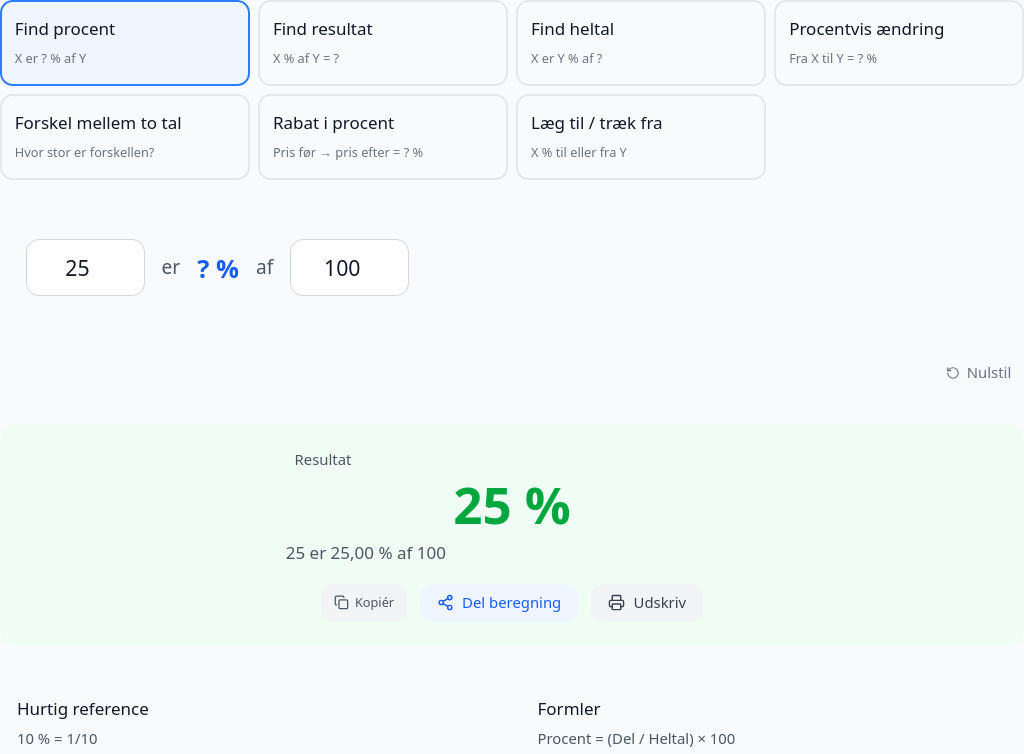
Test: ProcentBeregner › et byttet talpar giver samme forskel, men den anden ændring
This screenshot has width=1024, height=754.
Click the radio button labelled "Forskel mellem to tal Hvor stor er forskellen?". click: x=125, y=137
box: [0,94,250,180]
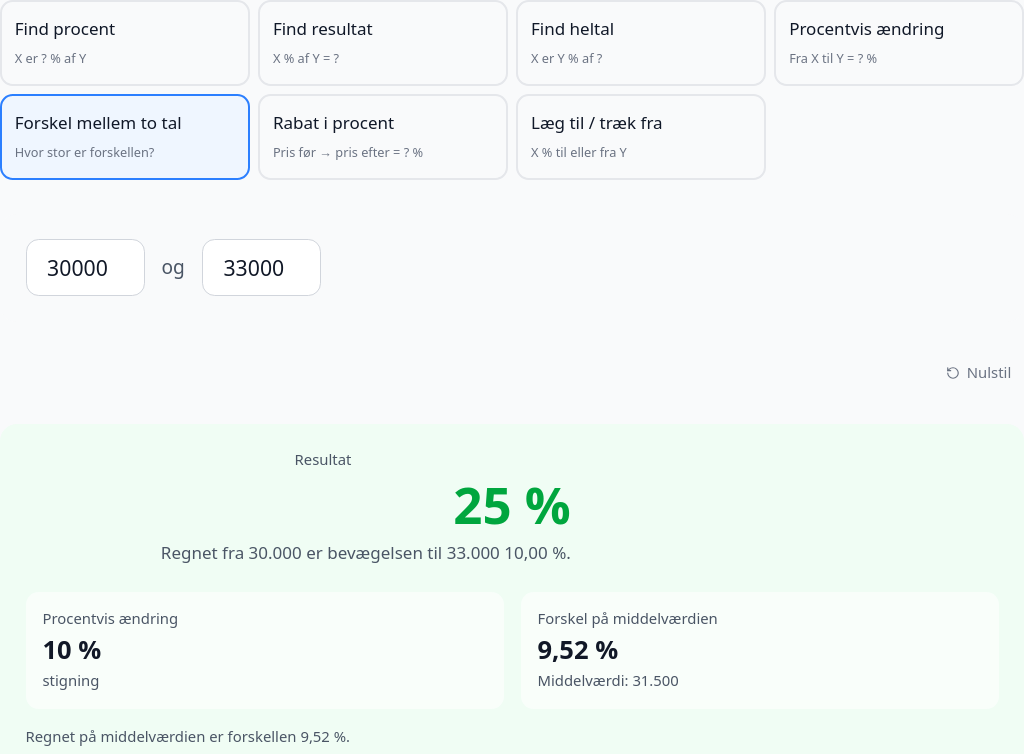
Replace the text in the number field named "Første tal" with "33000". click: x=85, y=268
box: [26,239,144,296]
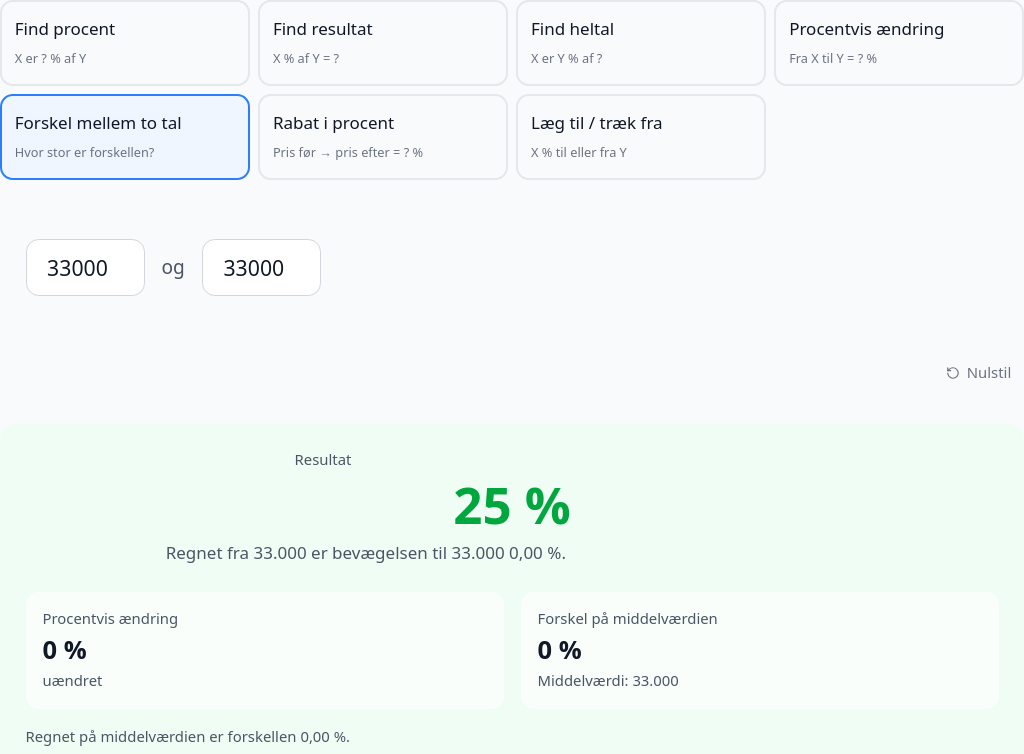
Replace the text in the number field named "Andet tal" with "30000". click: x=261, y=268
box: [202,239,321,296]
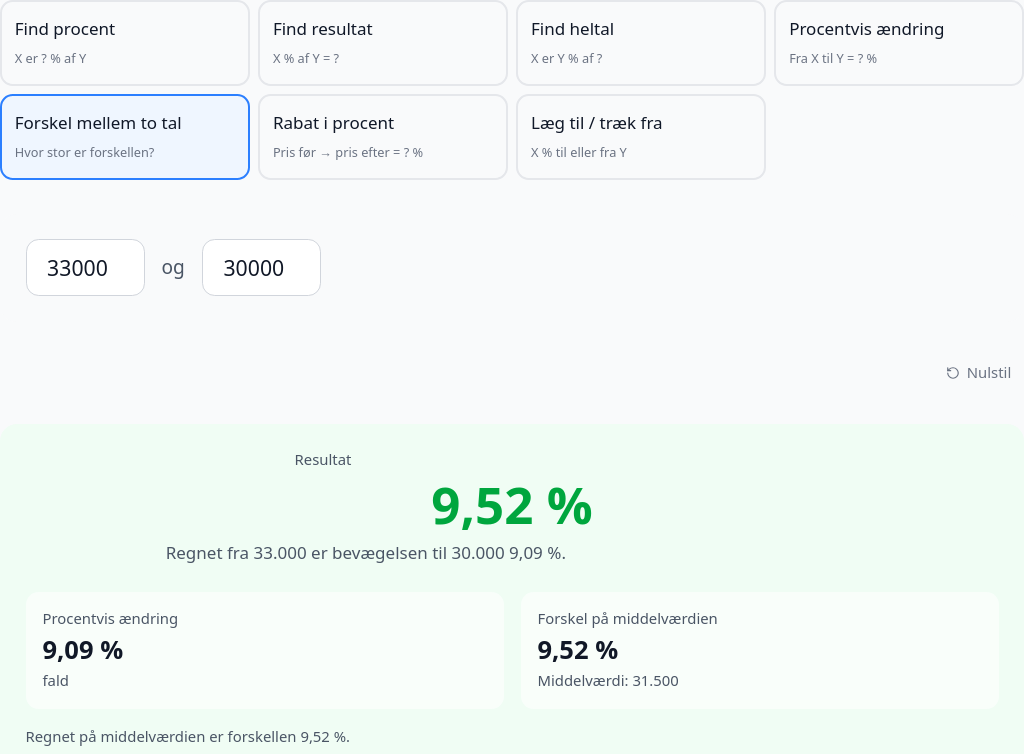
Now the text "9,09 %" is shown, box [166,541,566,564]
Now the text "9,52 %" is shown, box [431,469,593,539]
